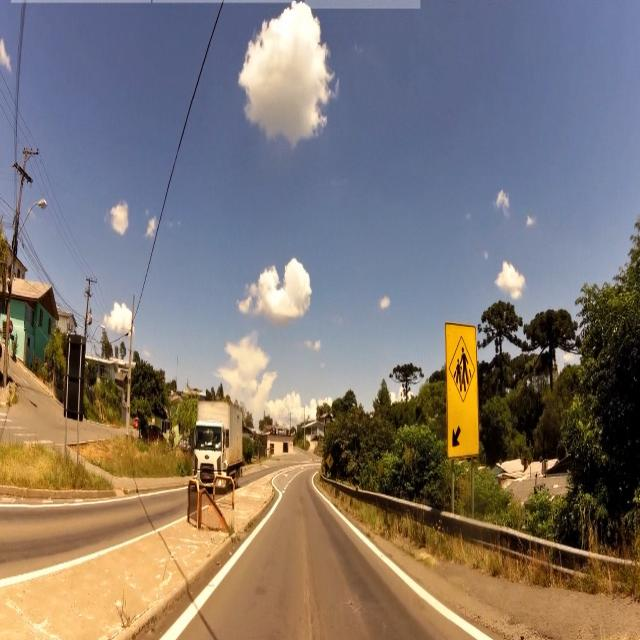A-33b: (449, 329, 475, 400)
